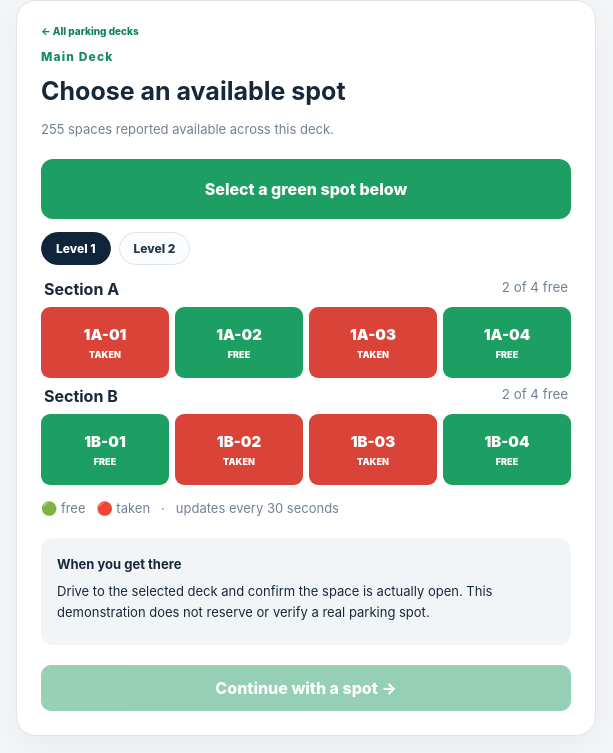
Test: selected spot becomes unavailable › while confirming, also moves to the unavailable screen
Click the button "1A-02 FREE" at coordinates (239, 343), box [175,307,303,378]
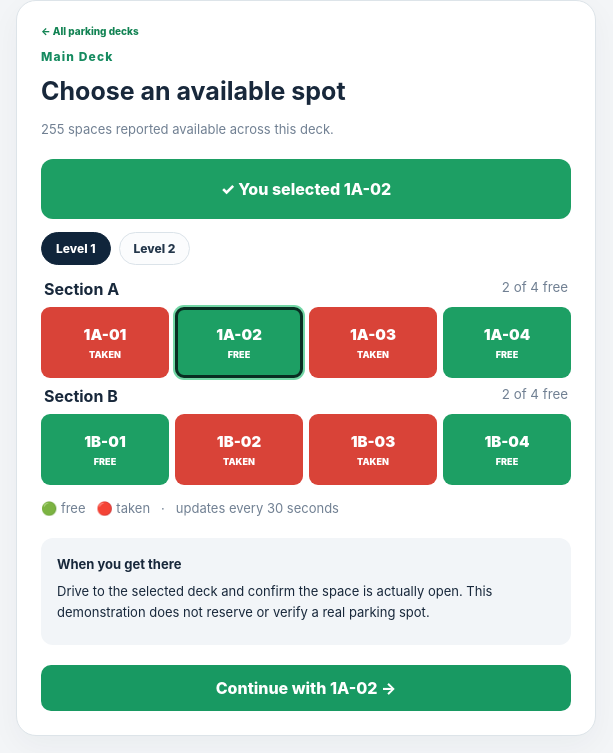
Check: the text "✓ You selected 1A-02" is shown, box [41,159,571,219]
Click the button "Continue with 1A-02 →" at coordinates (306, 688), box [41,665,571,711]
Wait 30000 ms
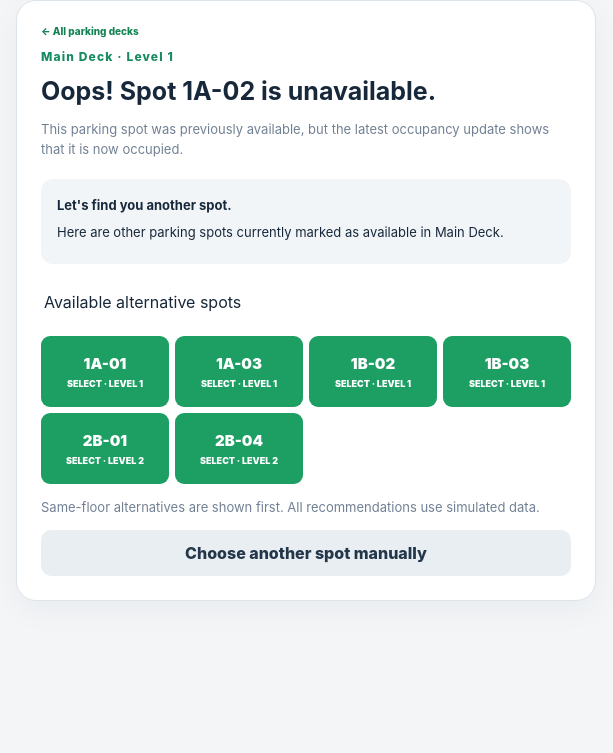
Check: the heading "Oops! Spot 1A-02 is unavailable." is shown, box [41,76,436,106]
